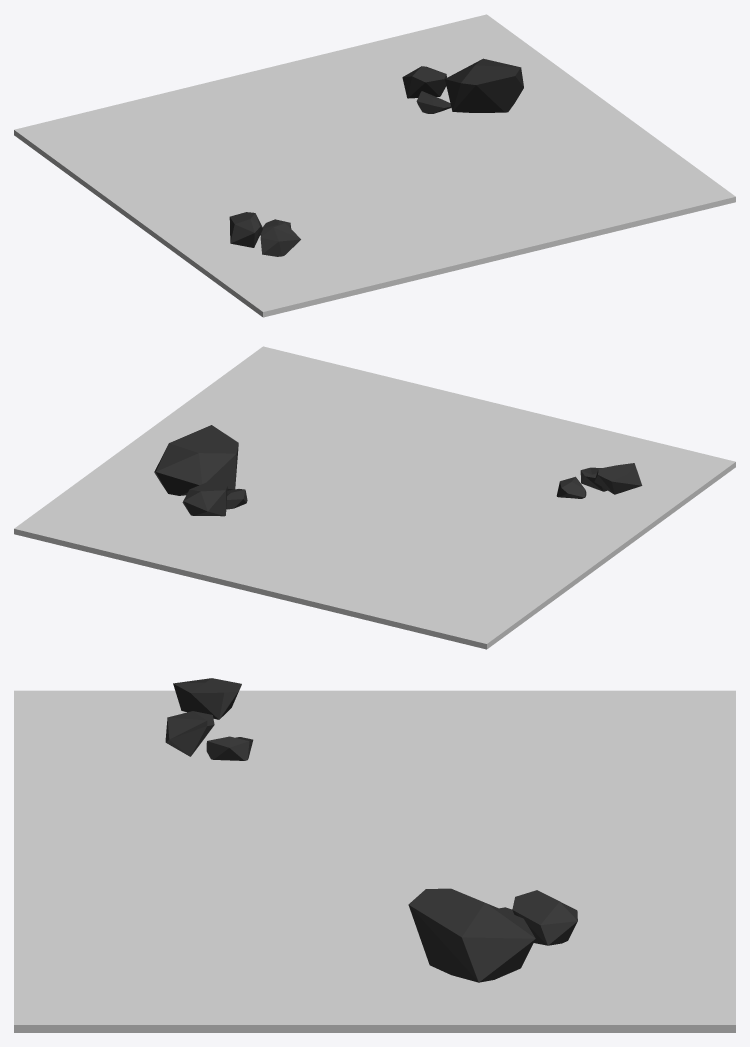
Rendered from floor_1.glb.
3 views of the same model, one above another, from view 1: azimuth 30°, elevation 25°; view 2: azimuth 150°, elevation 25°; view 3: azimuth 270°, elevation 25° (orthographic). The views are drawn at different scales.
Visible parts, largest first — view 1: floor_1, rock_1, rock_3, rock_5, rock_4, rock_2; view 2: floor_1, rock_1, rock_3, rock_4, rock_6; view 3: floor_1, rock_1, rock_3, rock_4, rock_5, rock_6.
Boxes of the visible parts, x1=… form: floor_1: x1=14, y1=14, x2=735, y2=317; rock_1: x1=445, y1=58, x2=523, y2=112; rock_3: x1=402, y1=66, x2=446, y2=98; rock_5: x1=260, y1=223, x2=300, y2=256; rock_4: x1=229, y1=212, x2=262, y2=247; rock_2: x1=416, y1=91, x2=451, y2=113; floor_1: x1=14, y1=346, x2=735, y2=649; rock_1: x1=154, y1=425, x2=238, y2=495; rock_3: x1=182, y1=480, x2=227, y2=516; rock_4: x1=594, y1=463, x2=642, y2=494; rock_6: x1=556, y1=476, x2=586, y2=498; floor_1: x1=14, y1=690, x2=735, y2=1032; rock_1: x1=408, y1=888, x2=535, y2=982; rock_3: x1=512, y1=890, x2=577, y2=945; rock_4: x1=173, y1=678, x2=241, y2=719; rock_5: x1=165, y1=711, x2=214, y2=756; rock_6: x1=206, y1=736, x2=253, y2=760.
Bounding box in the file's own units: 1.53 × 0.1564 × 1.4.
Materials: 1 (1 with a texture image).
